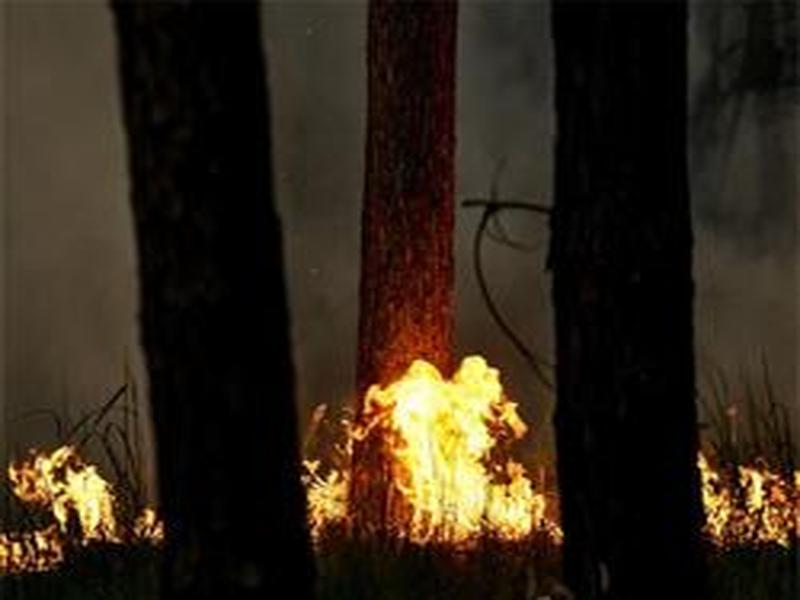FIRE: (5, 338, 681, 574)
